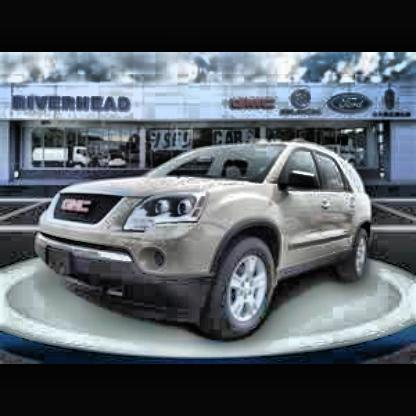GMC Acadia SUV 2012: (32, 129, 403, 359)
